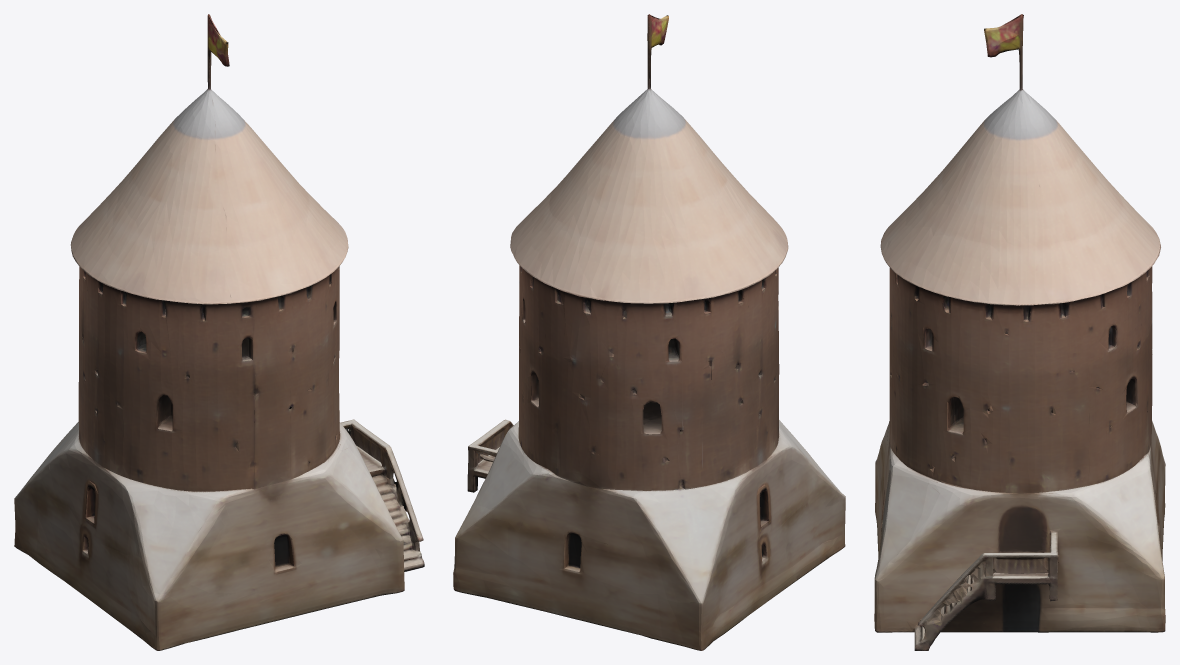
Rendered from original_slat.glb.
The picture shows the model from 3 angles, left to right: view 1: azimuth 30°, elevation 25°; view 2: azimuth 150°, elevation 25°; view 3: azimuth 270°, elevation 25°; orthographic projection.
Visible parts, largest first — view 1: world; view 2: world; view 3: world.
Boxes of the visible parts, <box> form: world: <box>14,14,424,650</box>; world: <box>453,14,845,650</box>; world: <box>874,14,1165,650</box>.
Bounding box in the file's own units: 0.4091 × 0.75 × 0.3549.
Materials: 1 (1 with a texture image).
